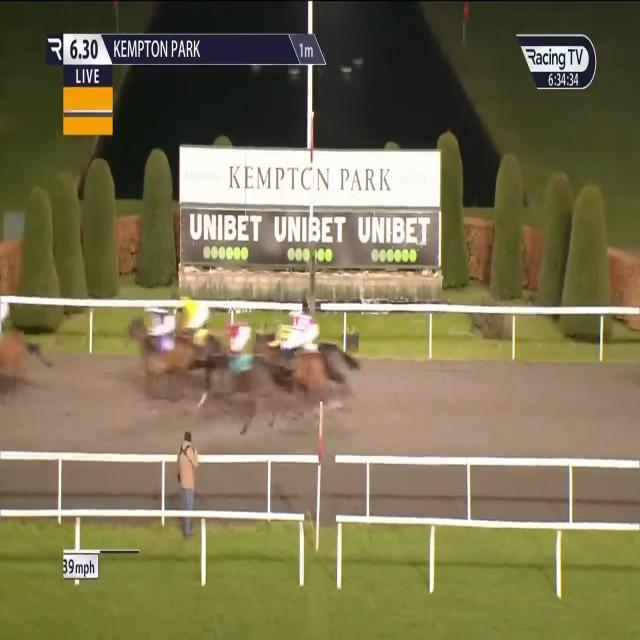horses-racing: (255, 323, 336, 411), (134, 302, 200, 396), (212, 317, 270, 413), (175, 291, 221, 370), (1, 294, 32, 398), (286, 309, 336, 360)
